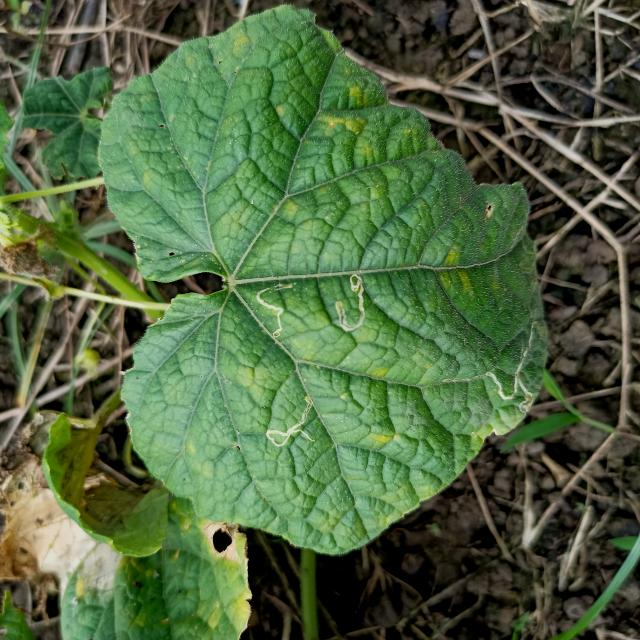disease_cucumber: (318, 86, 369, 136), (438, 245, 470, 295), (363, 426, 397, 449)
